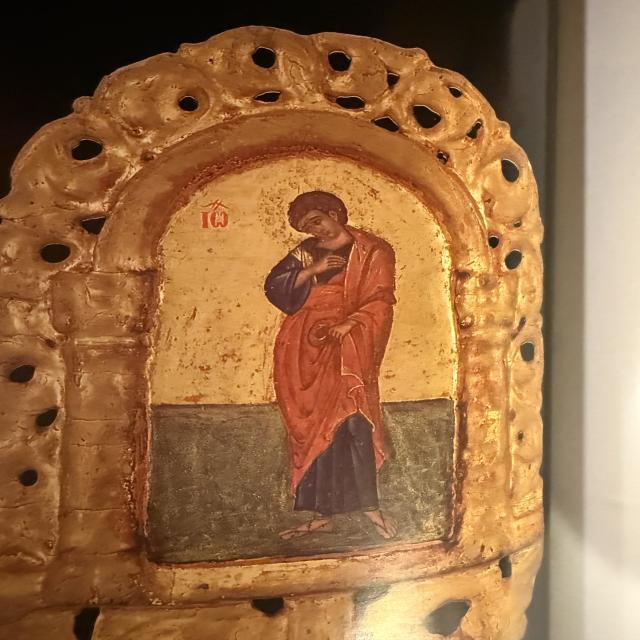aura: (259, 178, 379, 248)
saint: (241, 172, 430, 546)
